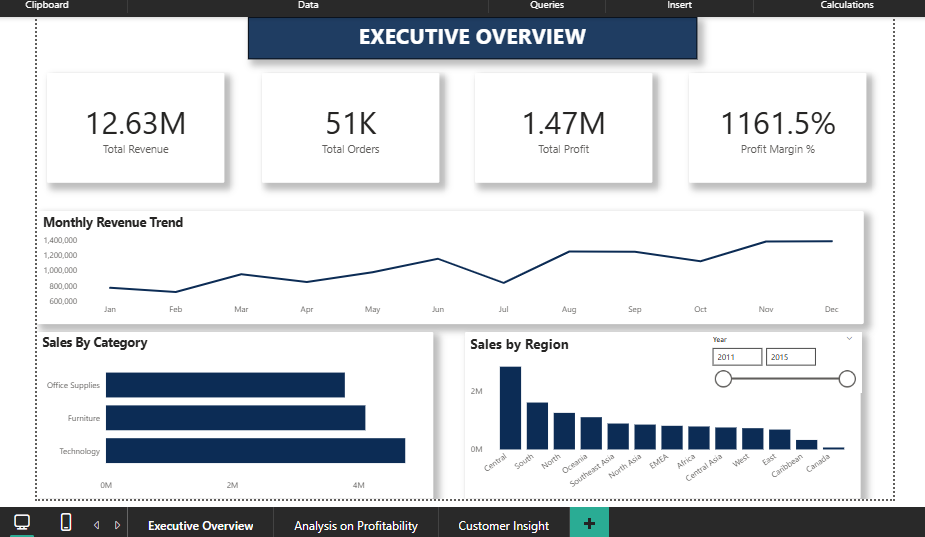

The dashboard page shown, as its layout file describes it:
{"tool":"powerbi","page":{"name":"Executive Overview","canvas":[1280,720],"ordinal":0},"visuals":[{"type":"card","fields":{"Values":["Cleaned_Global_Superstore2.Total Revenue"]},"box":[14.9,83.7,265,164],"z":0},{"type":"card","fields":{"Values":["Cleaned_Global_Superstore2.Total Profit"]},"box":[654.3,83.7,265,164],"z":1000},{"type":"card","fields":{"Values":["Cleaned_Global_Superstore2.Profit Margin %"]},"box":[973.9,83.7,265,164],"z":2000},{"type":"card","fields":{"Values":["Cleaned_Global_Superstore2.Total Orders"]},"box":[336.1,83.7,265,164],"z":3000},{"type":"lineChart","title":"Monthly Revenue Trend","fields":{"Y":["Cleaned_Global_Superstore2.Total Revenue"],"Category":["Date Table.Month Name"]},"box":[0,289.8,1235.4,168.8],"z":4000},{"type":"columnChart","title":"Sales by Region","fields":{"Category":["Cleaned_Global_Superstore2.Region"],"Y":["Sum(Cleaned_Global_Superstore2.Sales)"]},"box":[639.3,470.5,591,249.5],"z":5000},{"type":"barChart","title":"Sales By Category","fields":{"Y":["Sum(Cleaned_Global_Superstore2.Sales)"],"Category":["Cleaned_Global_Superstore2.Category"]},"box":[0,470.5,591.5,249.5],"z":6000},{"type":"slicer","fields":{"Values":["Date Table.Year"]},"box":[996.3,470.5,234.5,89.6],"z":7000},{"type":"textbox","box":[315.2,0,670.7,62.7],"z":8000}]}

Visuals, with their boxes on the page's 1280x720 design canvas (x1, y1, x2, y2). These are canvas units, not pixel positions in the 925x537 screenshot, which may show the page scaled, cropped or inside an application window:
card - Cleaned_Global_Superstore2.Total Revenue: bbox(15, 84, 280, 248)
card - Cleaned_Global_Superstore2.Total Profit: bbox(654, 84, 919, 248)
card - Cleaned_Global_Superstore2.Profit Margin %: bbox(974, 84, 1239, 248)
card - Cleaned_Global_Superstore2.Total Orders: bbox(336, 84, 601, 248)
"Monthly Revenue Trend" lineChart: bbox(0, 290, 1235, 459)
"Sales by Region" columnChart: bbox(639, 470, 1230, 720)
"Sales By Category" barChart: bbox(0, 470, 592, 720)
slicer - Date Table.Year: bbox(996, 470, 1231, 560)
textbox: bbox(315, 0, 986, 63)
